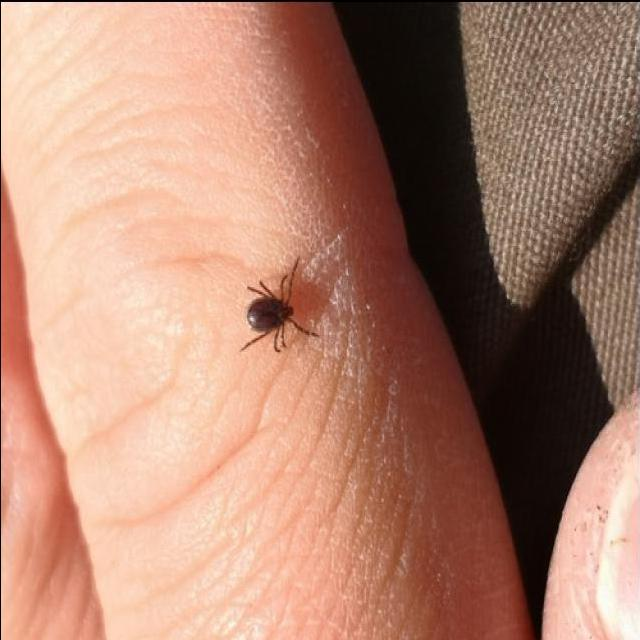Ixodes Ricinus-M: (239, 256, 321, 350)
